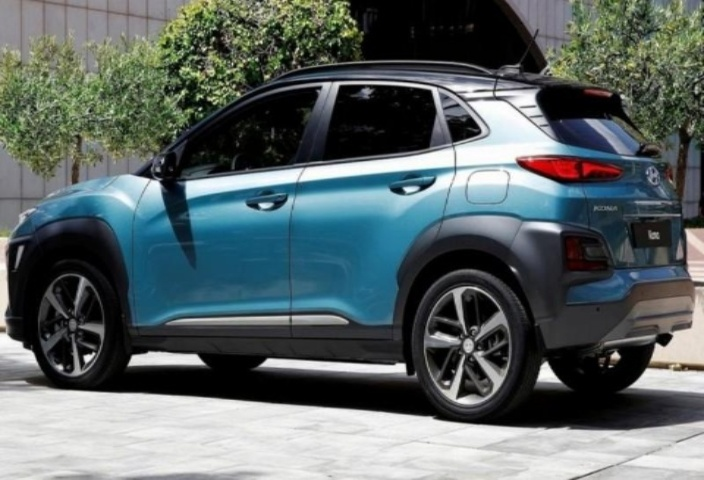camper: (7, 54, 703, 424)
